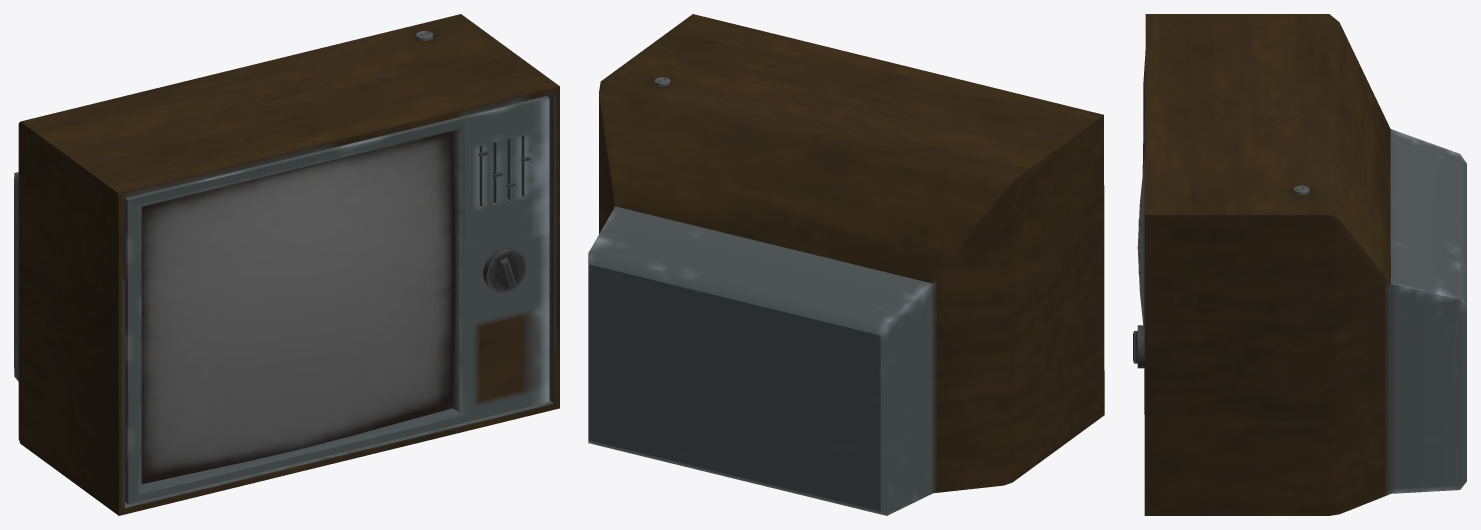
3 views of the same model, side by side, from view 1: azimuth 30°, elevation 25°; view 2: azimuth 150°, elevation 25°; view 3: azimuth 270°, elevation 25° (orthographic). The views are drawn at different scales.
Parts seen in each view (by area): view 1: Cube; view 2: Cube; view 3: Cube.
Boxes of the visible parts, x1,y1,x2,y2 form: Cube: [14, 14, 559, 515]; Cube: [588, 14, 1104, 515]; Cube: [1133, 14, 1466, 515].
Bounding box in the file's own units: 88.63 × 62.6 × 62.19.
